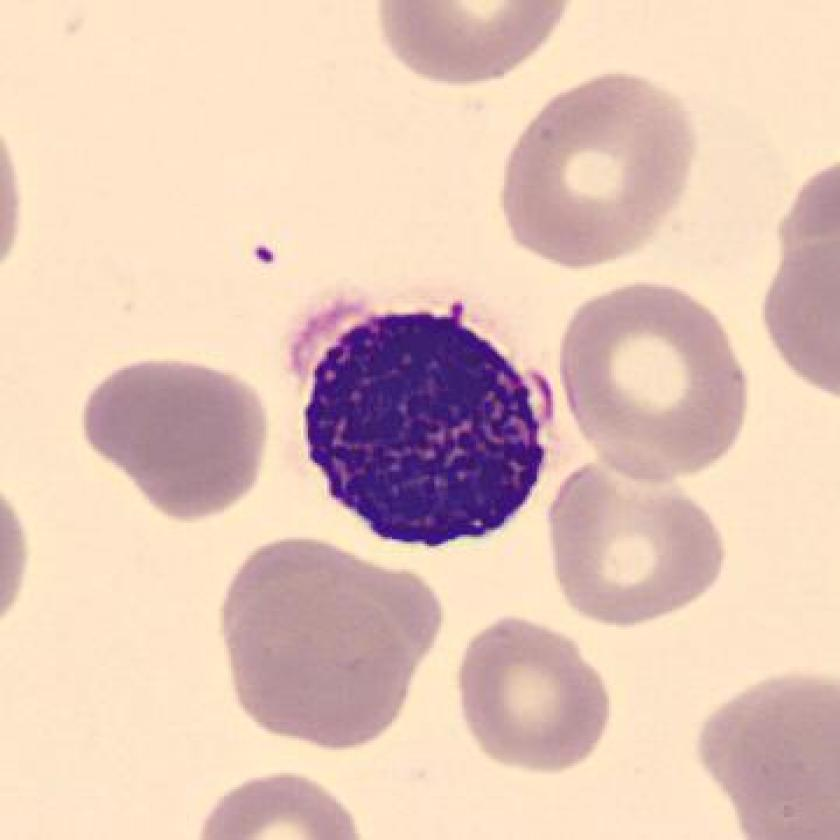basophil: (290, 295, 566, 563)
